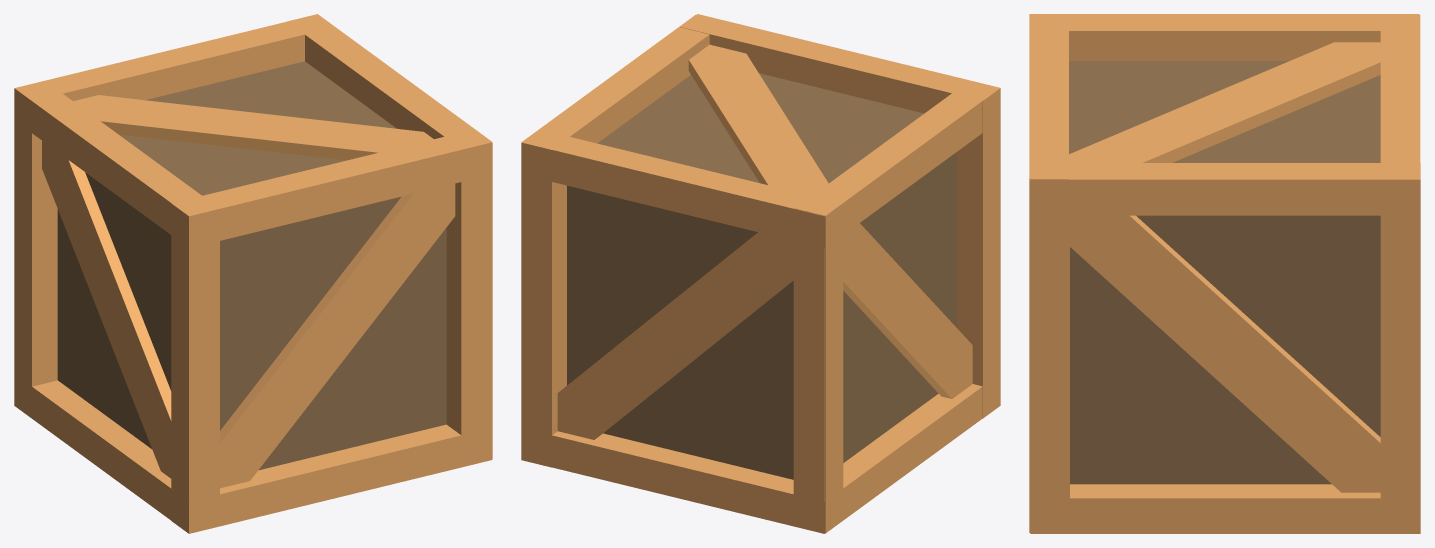
The model's file is Crate.fbx.
3 renders of one model, left to right at view 1: azimuth 30°, elevation 25°; view 2: azimuth 150°, elevation 25°; view 3: azimuth 270°, elevation 25°, orthographic. The views are drawn at different scales.
Visible parts, largest first — view 1: Crate; view 2: Crate; view 3: Crate.
Part boxes in pixels (x1,y1,x2,y2): Crate: [14, 14, 492, 533]; Crate: [521, 14, 1000, 533]; Crate: [1029, 14, 1420, 533].
Bounding box in the file's own units: 80.26 × 80.19 × 80.22.
